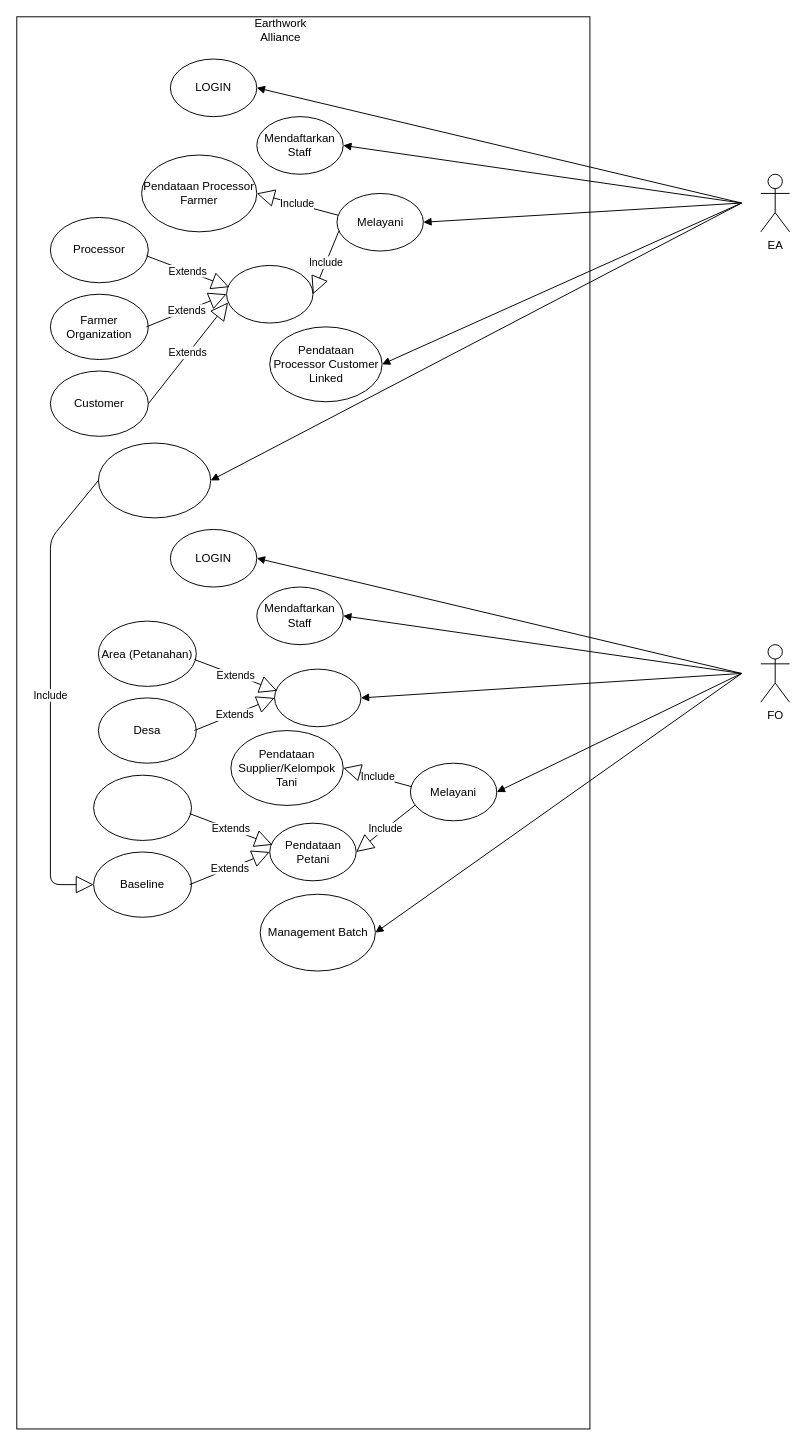
This 806x1446 diagram has some shape labels left out. Here are the shapes that lost their labels. From the top down, the centre of each, then its label:
At (x=269, y=293): "Pendataan Klien".
At (x=154, y=480): "Pengelolaan Kategori Komoditas".
At (x=317, y=697): "Management Unit".
At (x=142, y=807): "Lahan".
